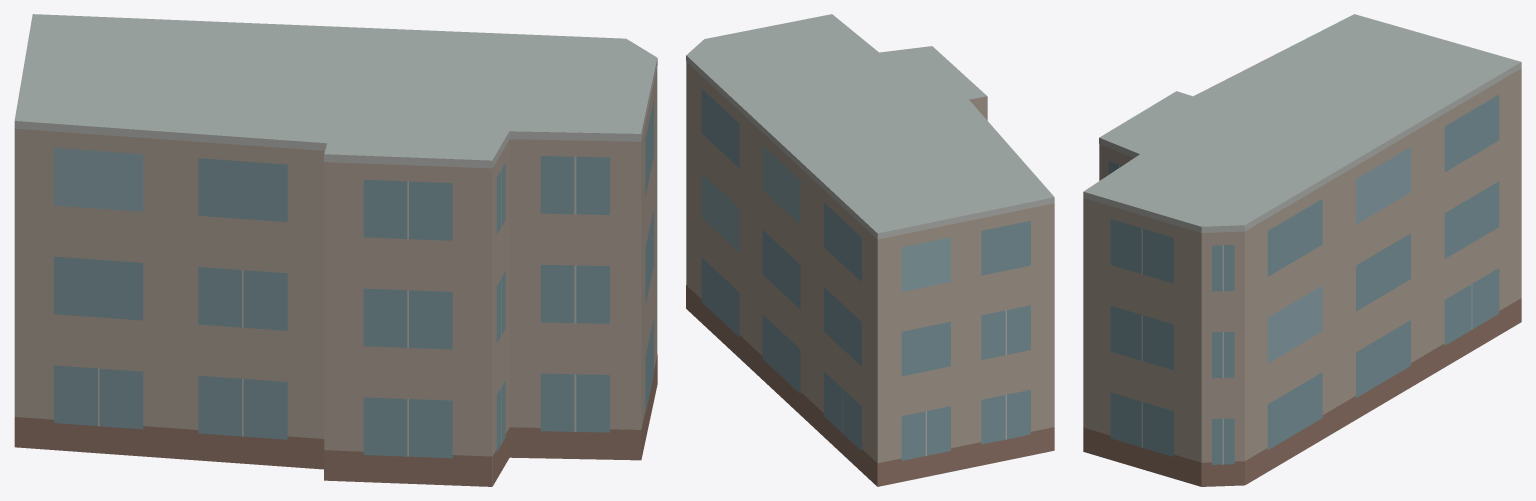
The model's file is survey-upis-32615991.glb.
3 views of the same model, side by side, from view 1: azimuth 30°, elevation 25°; view 2: azimuth 150°, elevation 25°; view 3: azimuth 270°, elevation 25° (orthographic). The views are drawn at different scales.
Parts seen in each view (by area): view 1: survey-upis-32615991.tmp; view 2: survey-upis-32615991.tmp; view 3: survey-upis-32615991.tmp.
Part boxes in pixels (box(x1,y1,x2,y2)): survey-upis-32615991.tmp: box(14, 14, 657, 486); survey-upis-32615991.tmp: box(686, 14, 1054, 486); survey-upis-32615991.tmp: box(1083, 14, 1521, 486).
Size of the model in its own units: 17.91 by 10.2 by 15.59.
